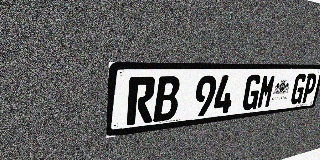4: (212, 75, 236, 115)
9: (193, 75, 218, 117)
B: (153, 76, 181, 122)
G: (241, 74, 263, 111), (289, 73, 308, 105)
M: (256, 74, 277, 109)
P: (300, 73, 318, 103)
R: (126, 76, 156, 125)
